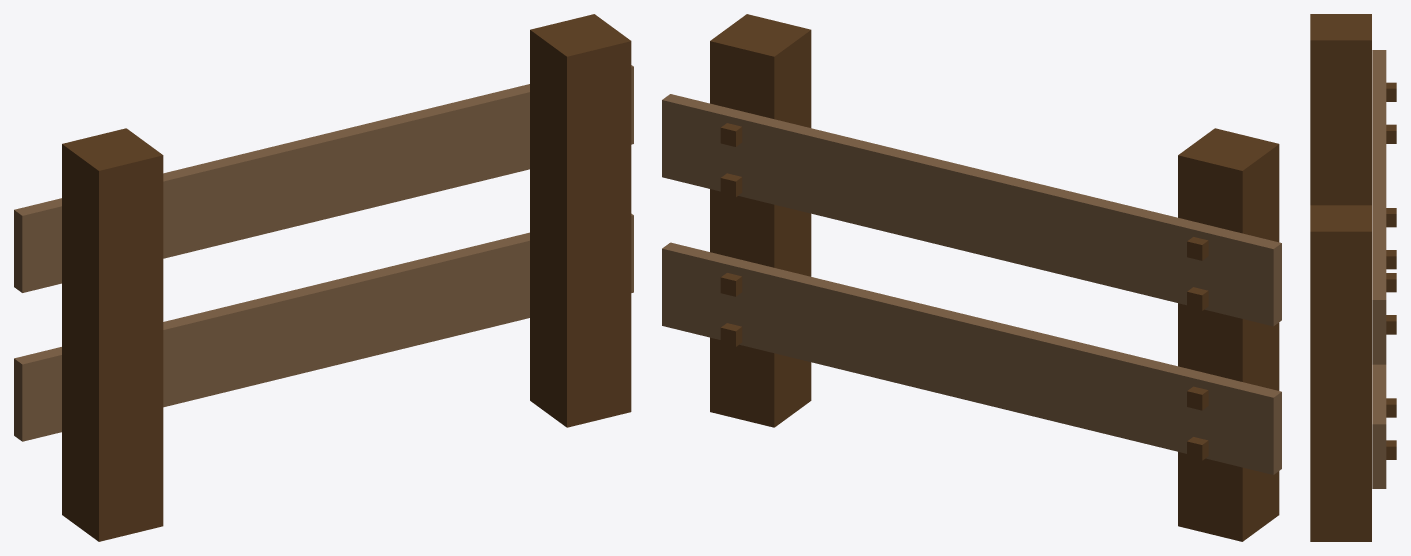
The model's file is fence.fbx.
3 renders of one model, left to right at view 1: azimuth 30°, elevation 25°; view 2: azimuth 150°, elevation 25°; view 3: azimuth 270°, elevation 25°, orthographic. The views are drawn at different scales.
Visible parts, largest first — view 1: Cube; view 2: Cube; view 3: Cube.
Part boxes in pixels (x1=…): Cube: x1=14, y1=14, x2=633, y2=541; Cube: x1=662, y1=14, x2=1281, y2=541; Cube: x1=1310, y1=14, x2=1396, y2=541.
Size of the model in its own units: 690 by 400 by 101.
